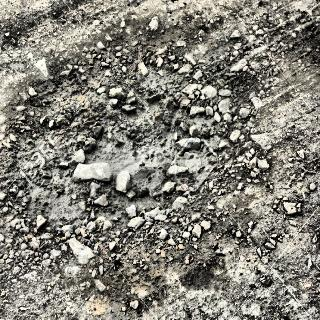pothole: (8, 38, 261, 281)
